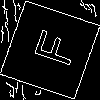F: (25, 25, 78, 69)
